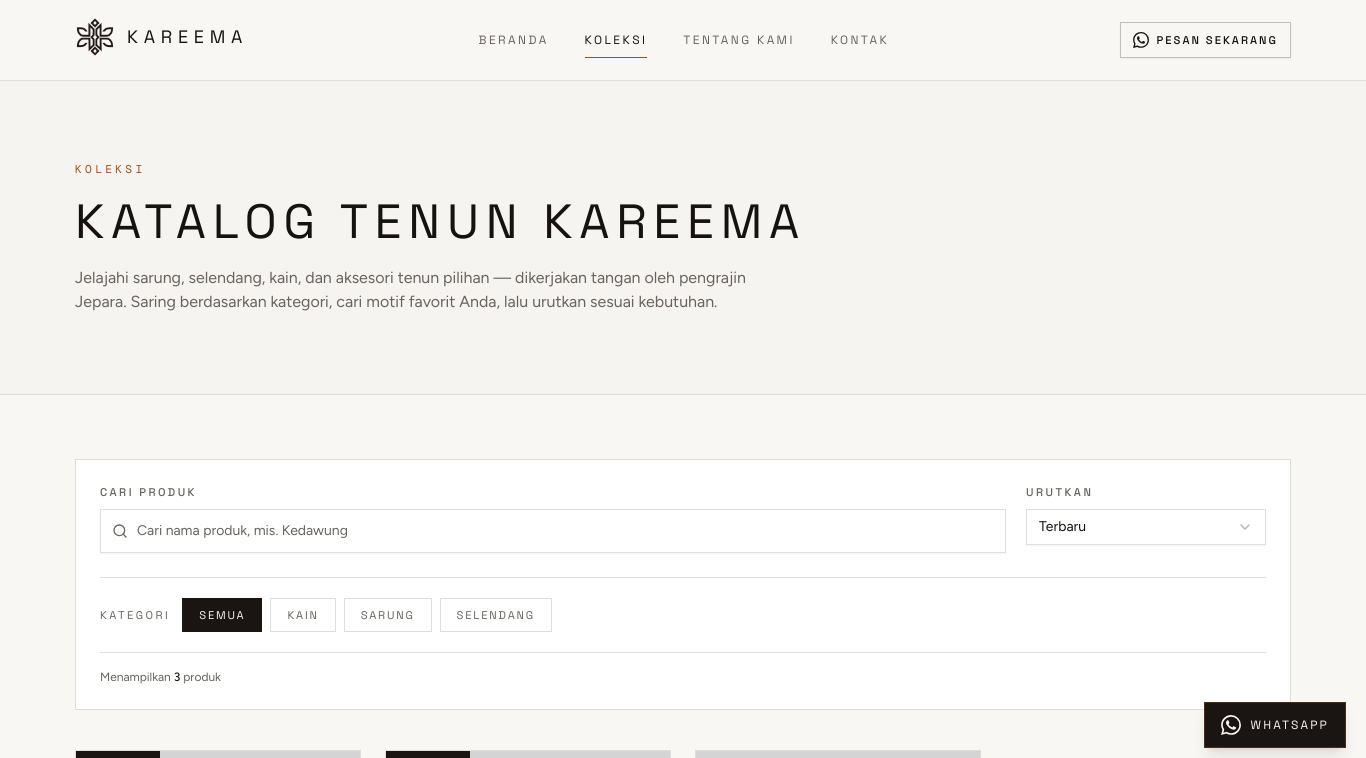
CatalogPage journey › searches by name and shows a clear empty state when nothing matches
The image size is (1366, 758).
In the search field labelled "Cari Produk": [553, 531] box [100,509,1006,553], type "tidak-ada-produk"
(page scrolled)
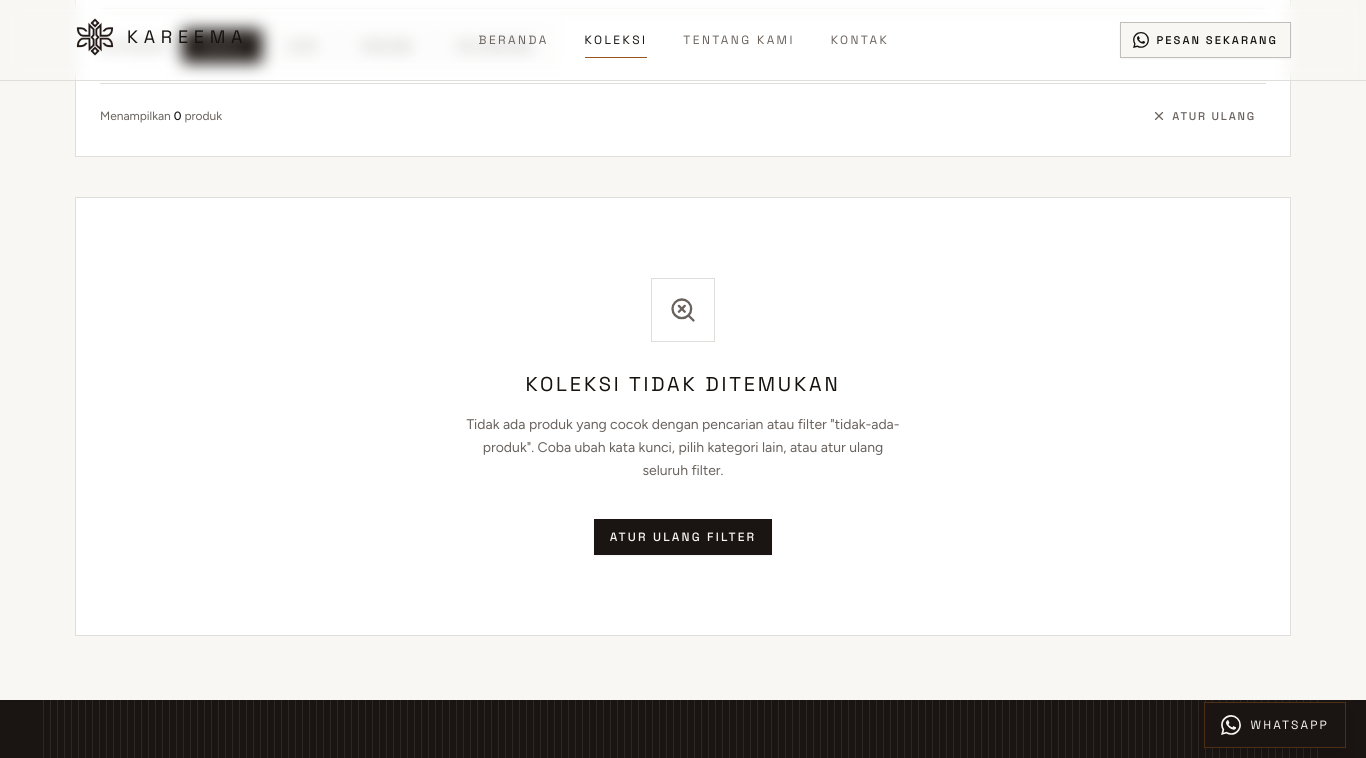
Expected: the heading "Koleksi Tidak Ditemukan" is shown, [526,370,840,398]
